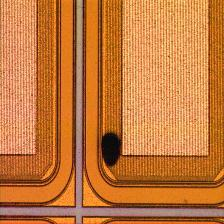PARTICLE: (93, 131, 133, 171)
